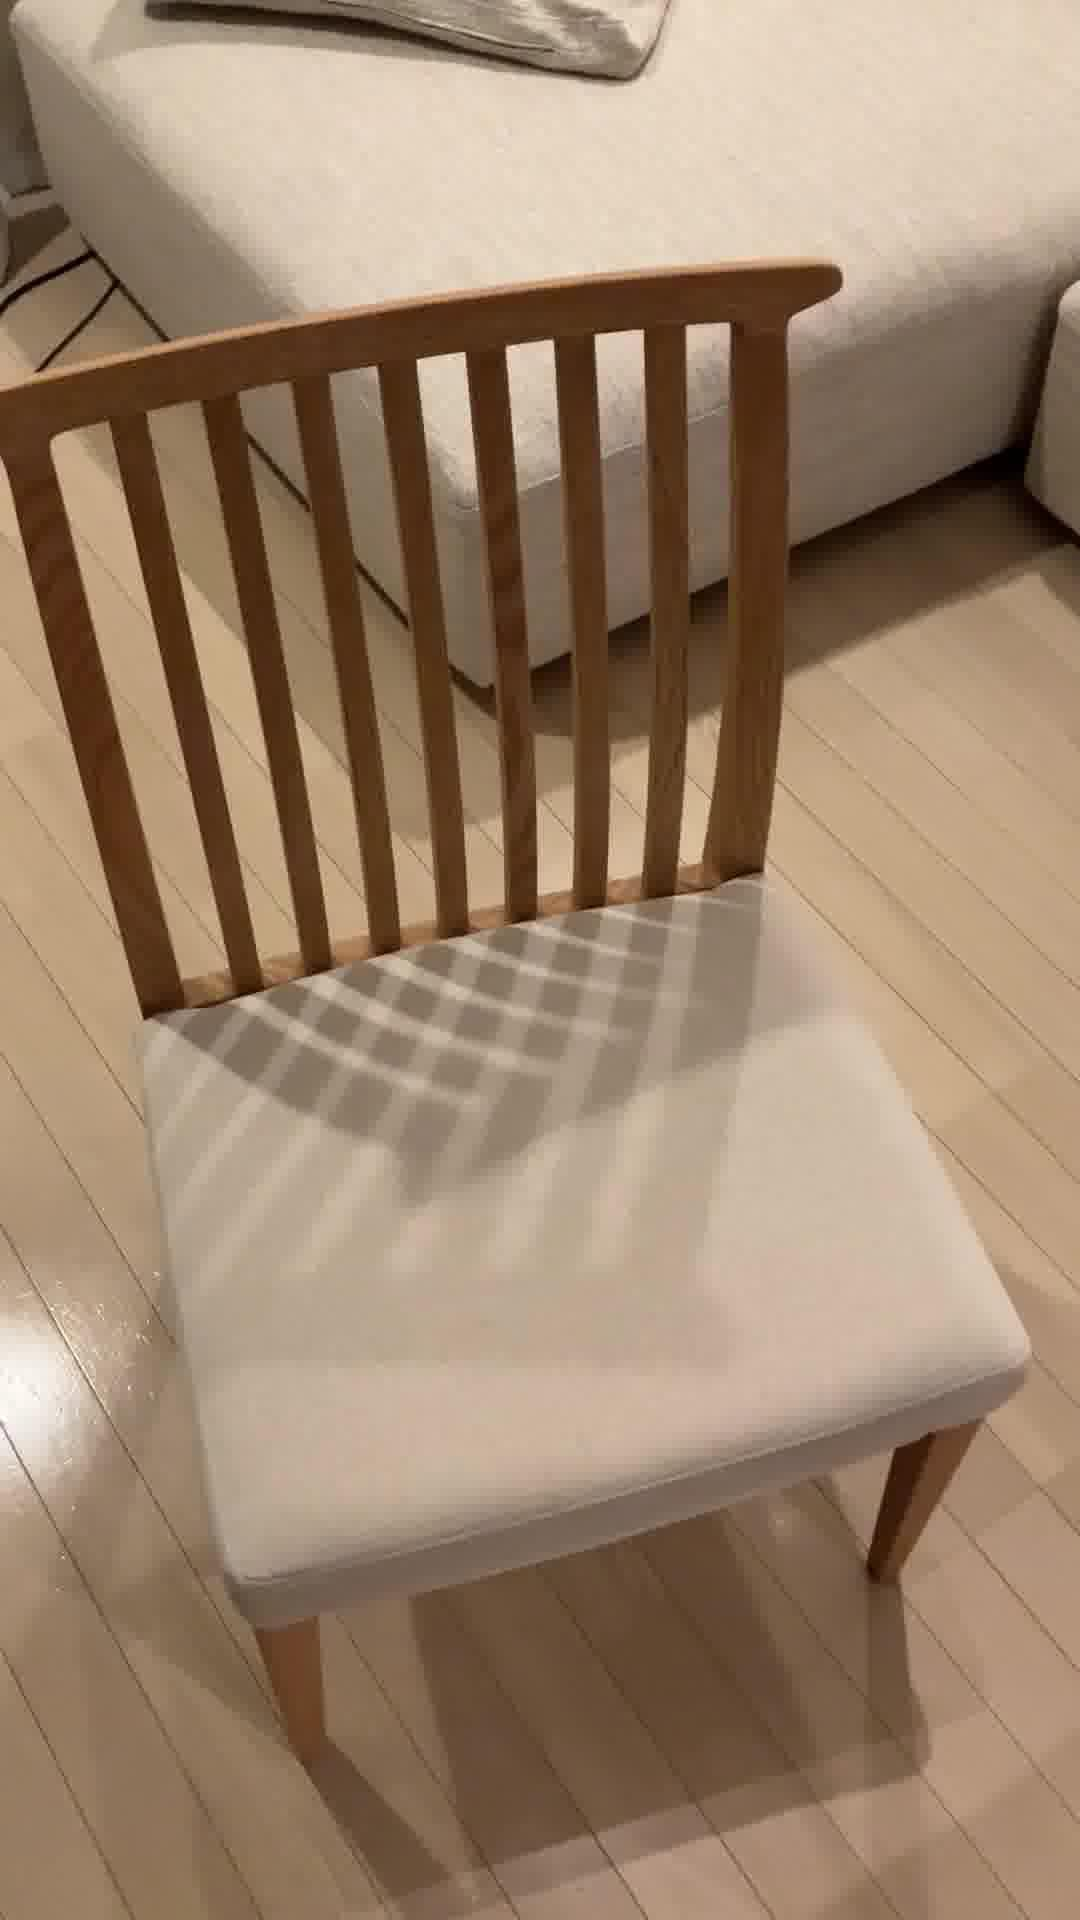takumikan-chair: (0, 255, 1034, 1763)
